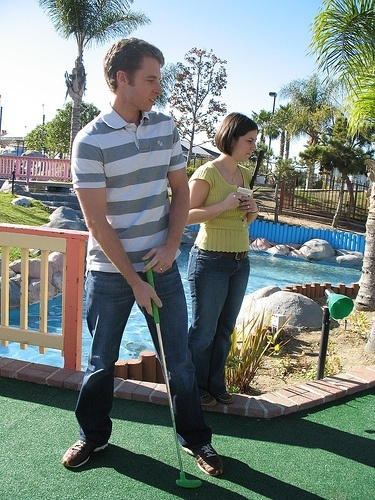head: (99, 32, 171, 115), (215, 114, 259, 161)
person: (65, 37, 223, 475), (183, 112, 261, 401)
